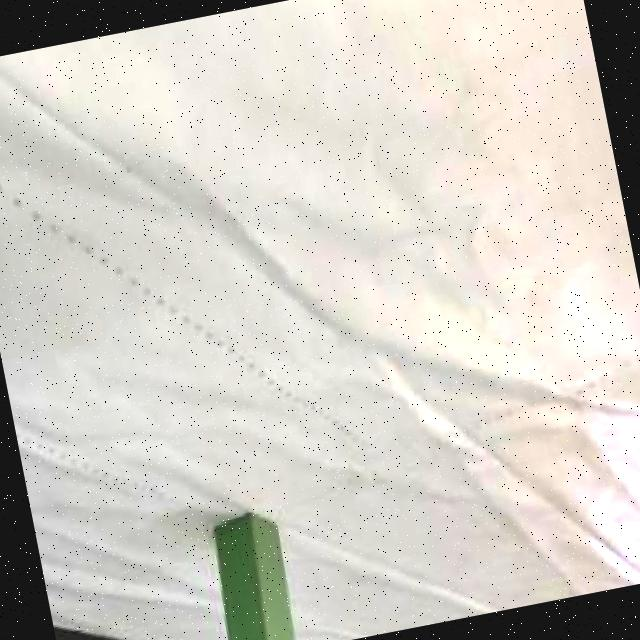greenbox: (203, 509, 305, 640)
